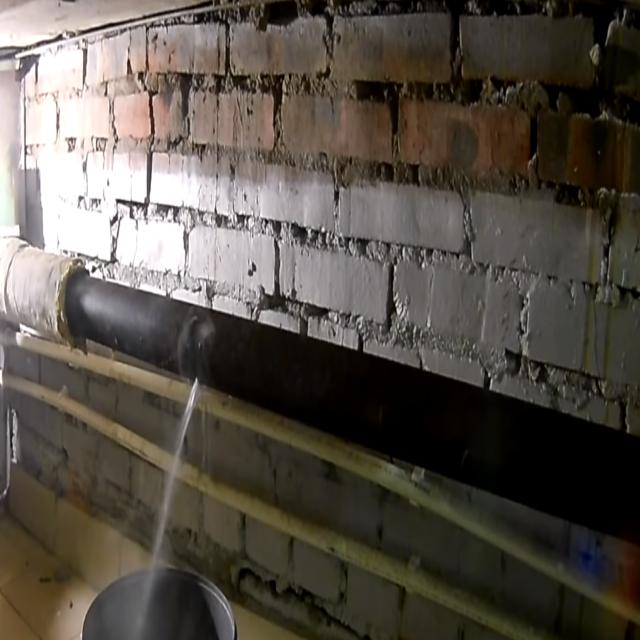leak: (141, 377, 200, 630)
